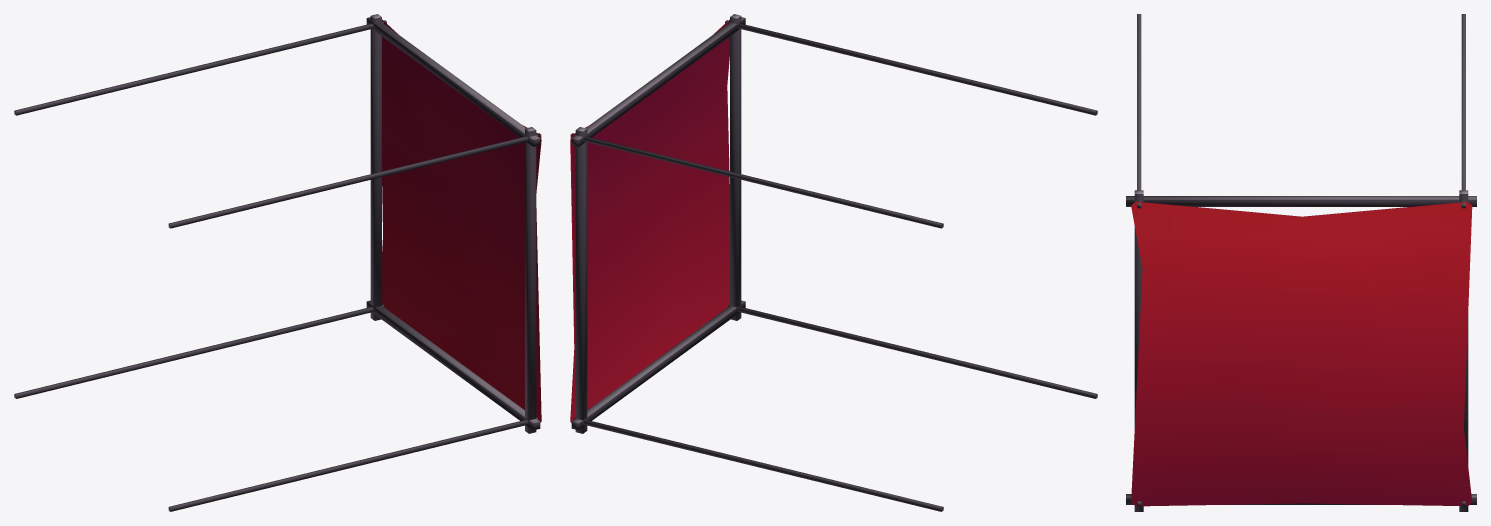
Rendered from Safety_Net_3C.fbx.
3 views of the same model, side by side, from view 1: azimuth 30°, elevation 25°; view 2: azimuth 150°, elevation 25°; view 3: azimuth 270°, elevation 25° (orthographic). The views are drawn at different scales.
Visible parts, largest first — view 1: Safety_Net_3C; view 2: Safety_Net_3C; view 3: Safety_Net_3C.
Boxes of the visible parts, box(x1,y1,x2,y2) form: Safety_Net_3C: box(14, 14, 541, 511); Safety_Net_3C: box(570, 14, 1097, 511); Safety_Net_3C: box(1126, 14, 1476, 511).
Size of the model in its own units: 516 by 400 by 400.
